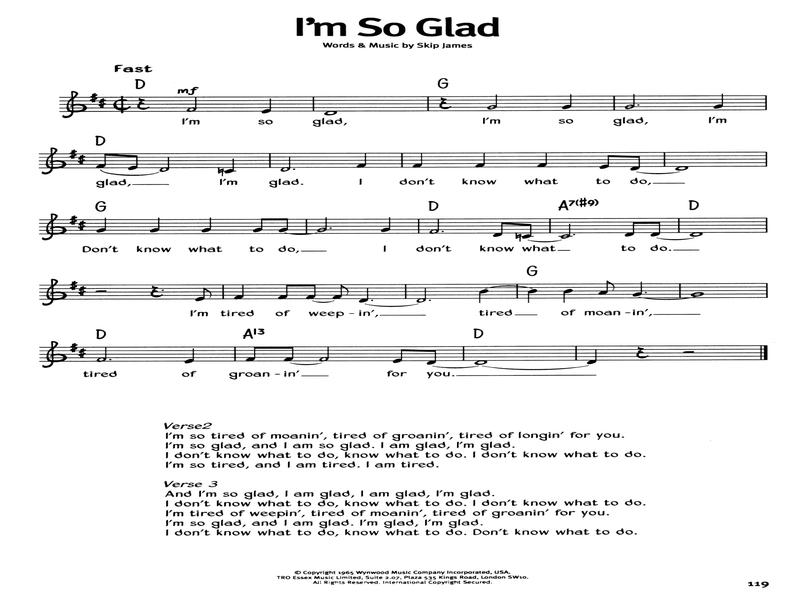B: (319, 346, 330, 362), (625, 93, 636, 109), (160, 156, 170, 173), (281, 156, 291, 173), (97, 347, 107, 363), (562, 224, 572, 240), (430, 219, 440, 235), (488, 94, 498, 110), (188, 96, 197, 113), (318, 217, 328, 232), (418, 287, 427, 303)
C: (333, 283, 349, 299), (599, 280, 615, 295), (97, 153, 111, 169), (196, 287, 212, 301), (279, 283, 292, 300), (253, 218, 267, 233), (599, 155, 613, 170), (625, 221, 638, 237), (494, 221, 507, 237), (247, 346, 260, 362), (393, 349, 407, 363), (650, 221, 661, 238), (127, 154, 138, 171), (630, 155, 641, 172), (278, 217, 289, 233), (306, 283, 317, 299), (426, 349, 437, 365), (523, 223, 533, 240), (284, 346, 294, 362)
CS: (62, 90, 88, 120), (41, 278, 67, 307), (42, 340, 68, 368), (41, 146, 66, 175), (41, 213, 66, 240)
N: (200, 217, 212, 233), (412, 152, 423, 169), (587, 348, 598, 365), (475, 152, 486, 168), (150, 217, 161, 233), (562, 288, 573, 304), (527, 288, 538, 304), (234, 284, 245, 300), (185, 348, 195, 365), (478, 289, 489, 304), (714, 93, 724, 109), (562, 94, 572, 110), (538, 152, 548, 168), (357, 152, 367, 168), (97, 218, 107, 234), (633, 281, 643, 297), (262, 99, 272, 114), (226, 158, 235, 174), (382, 217, 391, 232), (360, 288, 369, 303)
P: (637, 103, 641, 107), (644, 291, 648, 294), (441, 230, 445, 233), (429, 298, 432, 302), (329, 227, 333, 230), (109, 358, 113, 361), (161, 289, 165, 292), (293, 168, 296, 171), (371, 299, 374, 302), (573, 233, 576, 235)
R: (674, 165, 689, 172), (689, 231, 704, 238), (690, 291, 704, 298), (474, 359, 488, 366), (323, 110, 338, 116)
SB: (93, 290, 112, 294), (679, 351, 699, 354)
SOS: (78, 348, 87, 358), (90, 92, 98, 103), (99, 97, 107, 108), (78, 154, 86, 165), (78, 220, 86, 231), (78, 285, 86, 296), (70, 281, 78, 290), (70, 215, 77, 225), (71, 342, 77, 353), (71, 149, 77, 159)
